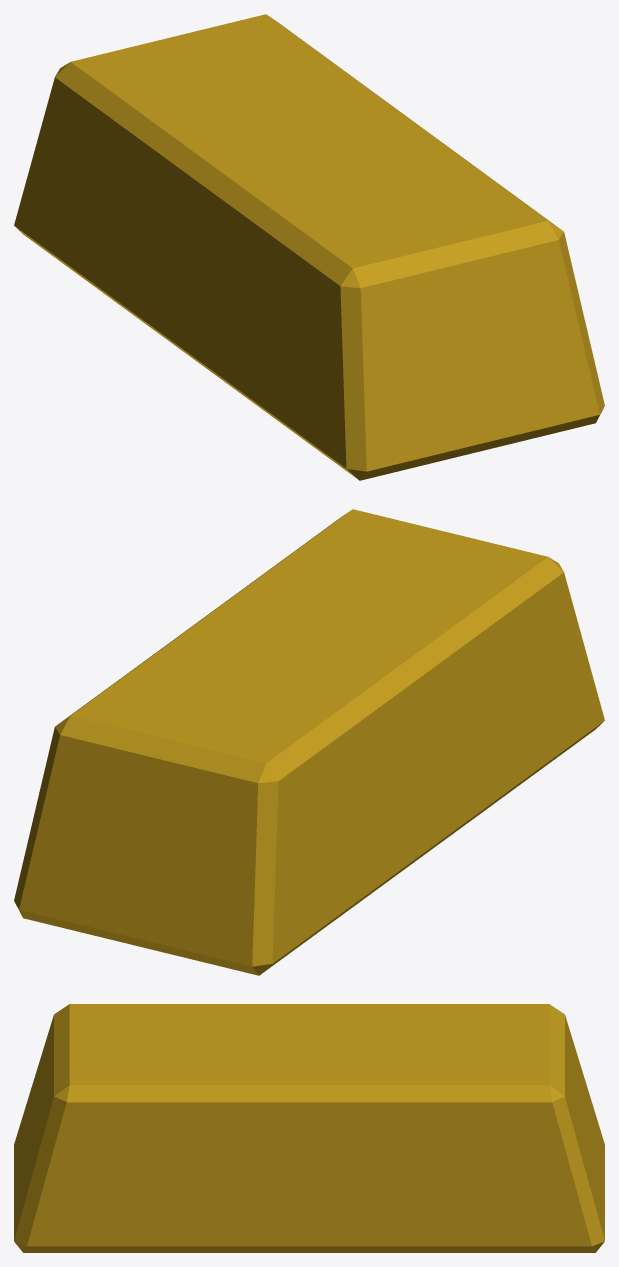
Rendered from lingo d'or.fbx.
3 renders of one model, top to bottom at view 1: azimuth 30°, elevation 25°; view 2: azimuth 150°, elevation 25°; view 3: azimuth 270°, elevation 25°, orthographic. The views are drawn at different scales.
Visible parts, largest first — view 1: lingo d'or; view 2: lingo d'or; view 3: lingo d'or.
Boxes of the visible parts, bbox=[...] form: lingo d'or: bbox=[14, 14, 604, 480]; lingo d'or: bbox=[14, 509, 604, 975]; lingo d'or: bbox=[14, 1004, 604, 1252].
Size of the model in its own units: 47.26 by 32.75 by 110.
